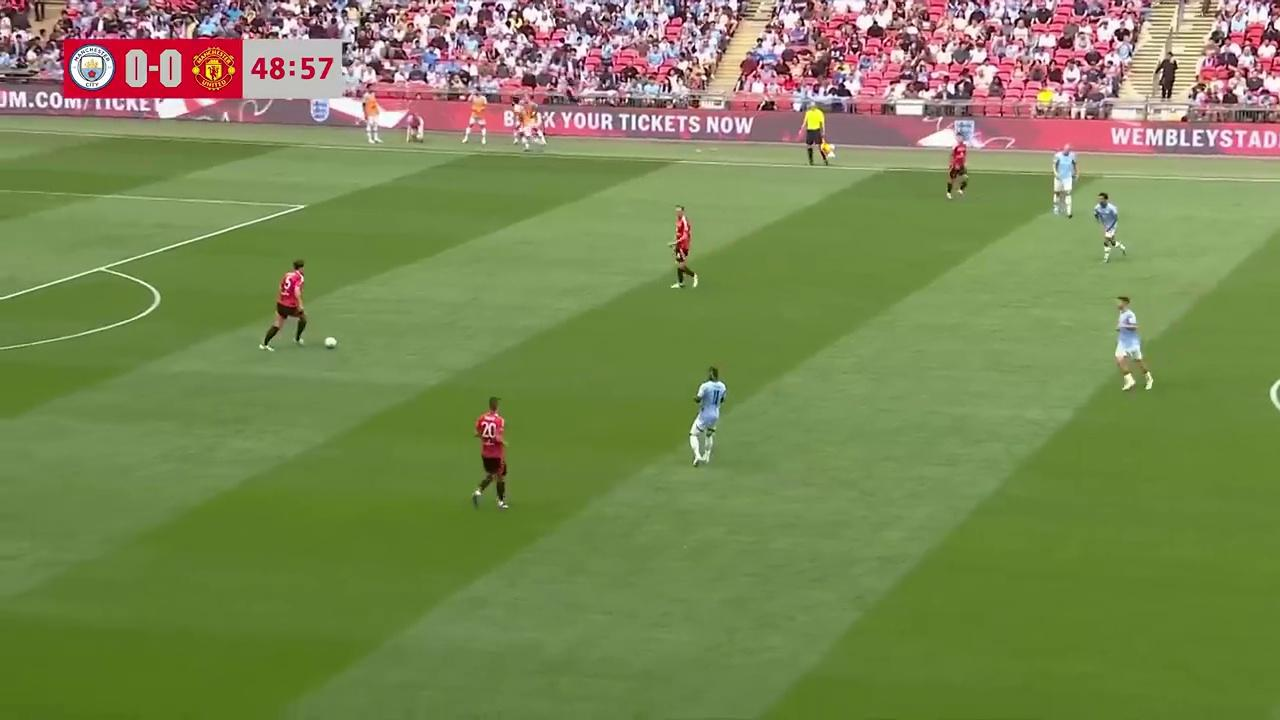ball: (322, 332, 338, 350)
player: (259, 259, 308, 352), (471, 397, 509, 511), (1114, 296, 1154, 392), (689, 365, 726, 466), (669, 206, 698, 288), (1093, 192, 1126, 262), (1052, 147, 1077, 217), (945, 138, 968, 199)
referee: (803, 104, 832, 167)
